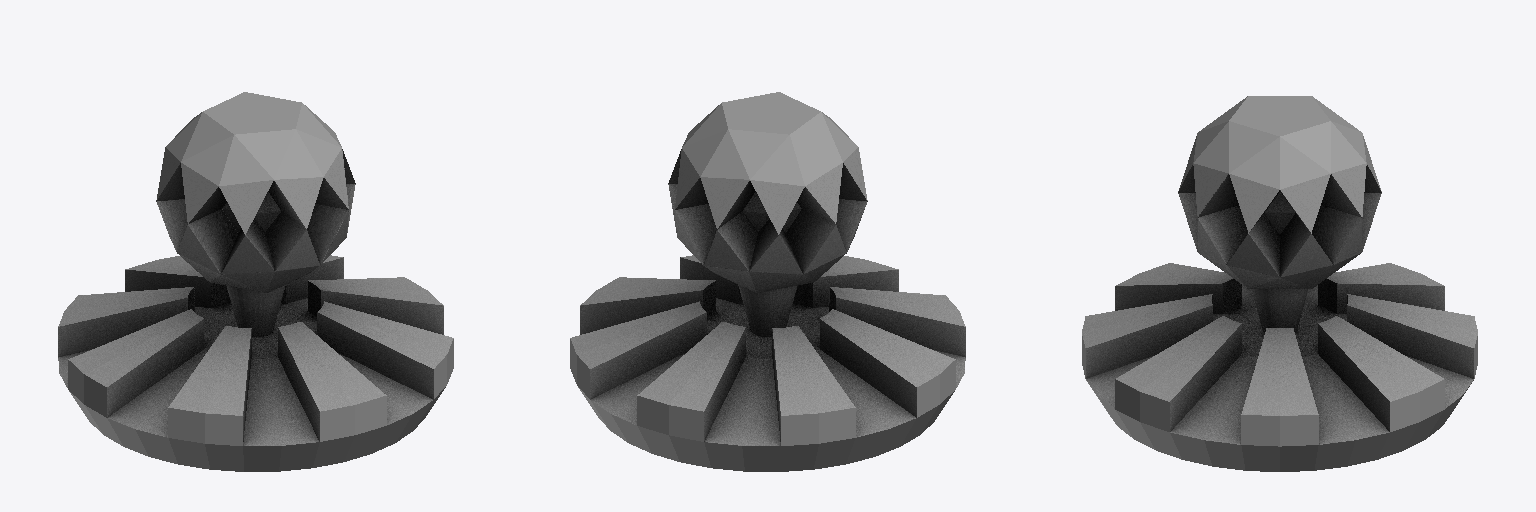
The picture shows the model from 3 angles: view 1: azimuth 30°, elevation 25°; view 2: azimuth 150°, elevation 25°; view 3: azimuth 270°, elevation 25°; orthographic projection.
Visible parts, largest first — view 1: Icosphere; view 2: Icosphere; view 3: Icosphere.
Part boxes in pixels (x1,y1,x2,y2): Icosphere: (58,92,453,471); Icosphere: (570,92,965,471); Icosphere: (1082,96,1477,471).
Bounding box in the file's own units: 7.78 × 6.15 × 7.78.
1 materials, 1 textured.